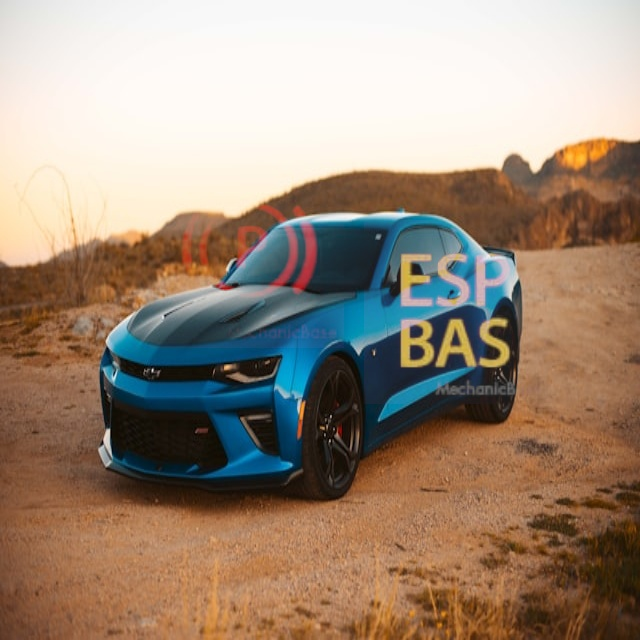symbol: (151, 155, 344, 348), (364, 220, 548, 404)
